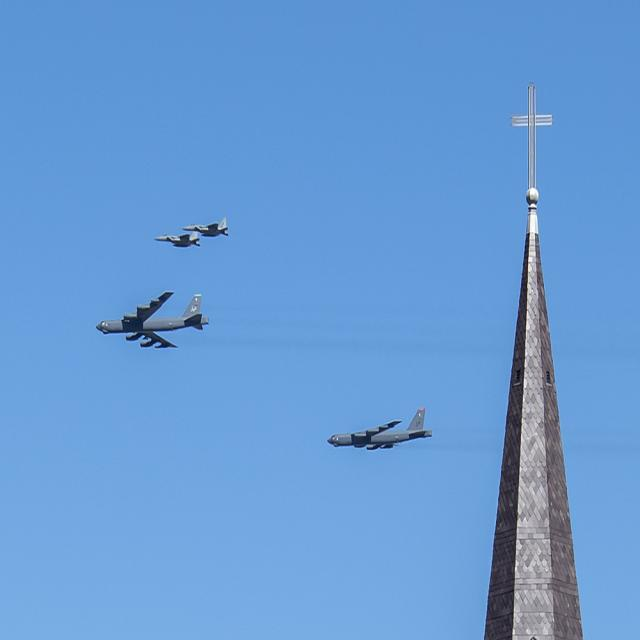MIL_Plane: (95, 290, 210, 350), (327, 407, 432, 451), (182, 216, 229, 238), (154, 230, 201, 248)
